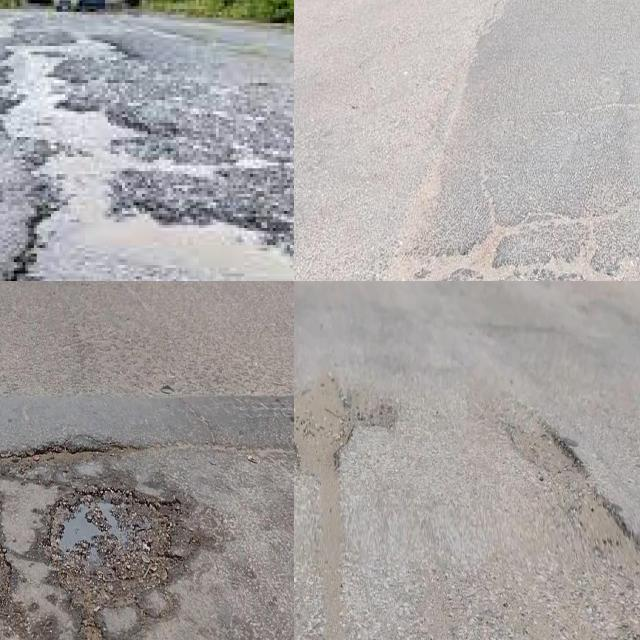Pothole: (0, 40, 294, 281), (47, 479, 186, 619), (294, 370, 398, 481), (509, 421, 588, 476)
